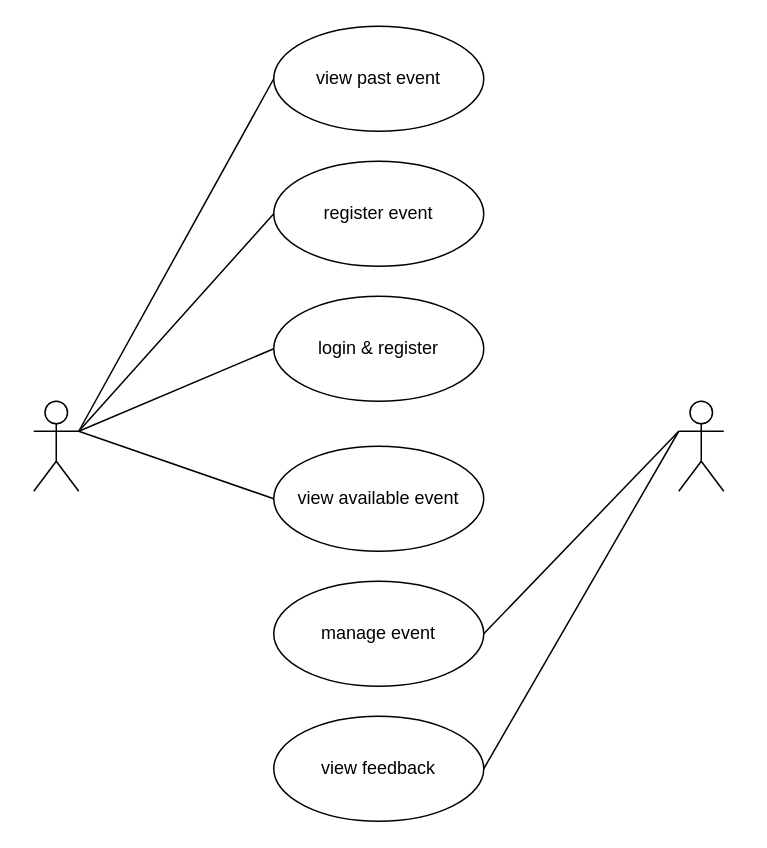
This 767x848 diagram has some shape labels left out. The centre of each missing label's shape, as x and y in pixels:
"Organizer" belongs at (700,445).
"Student" belongs at (55,445).
